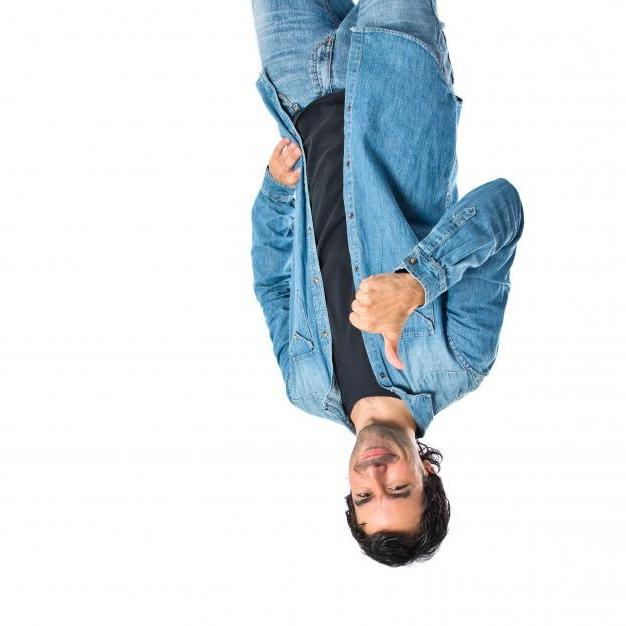thumbsdown: (349, 276, 404, 369)
